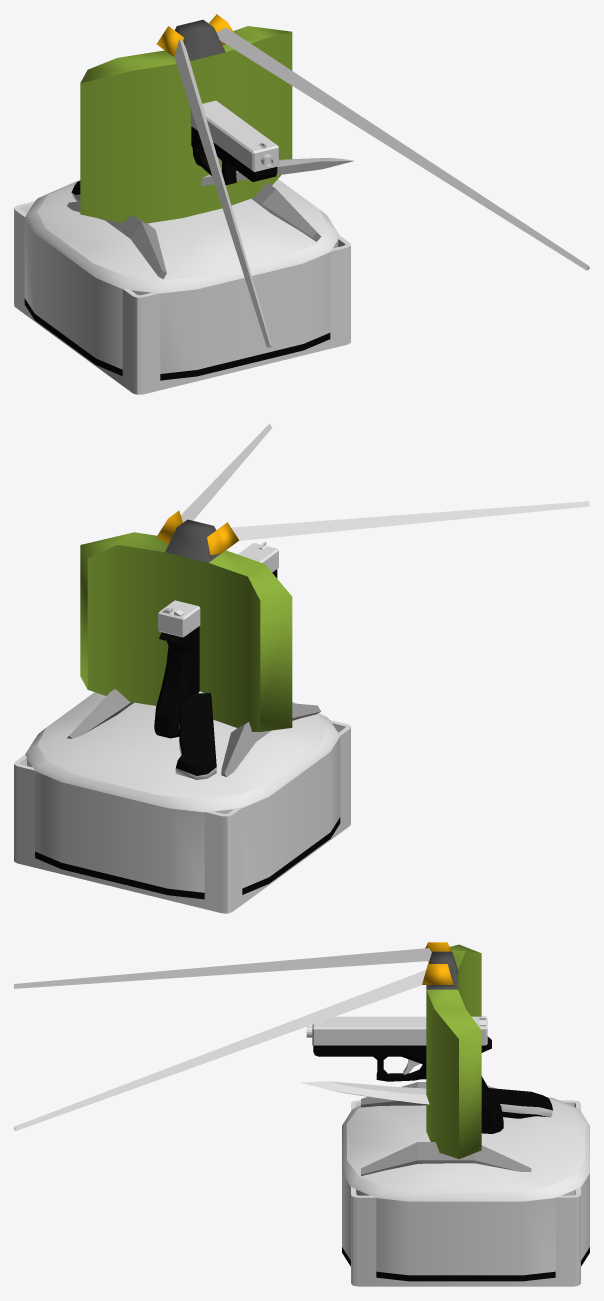
File: Roomba.fbx
The picture shows the model from 3 angles, top to bottom: view 1: azimuth 30°, elevation 25°; view 2: azimuth 150°, elevation 25°; view 3: azimuth 270°, elevation 25°; orthographic projection. The views are drawn at different scales.
Parts seen in each view (by area): view 1: Roomba Base, Claymore, Gun, Knif; view 2: Roomba Base, Claymore, Gun, Knif; view 3: Roomba Base, Claymore, Gun, Knif.
Part boxes in pixels (x1,y1,x2,y2): Roomba Base: [14, 179, 350, 394]; Claymore: [67, 14, 589, 347]; Gun: [190, 100, 278, 185]; Knif: [71, 157, 354, 201]; Roomba Base: [14, 692, 350, 913]; Claymore: [67, 423, 589, 776]; Gun: [154, 541, 278, 738]; Knif: [175, 691, 216, 779]; Roomba Base: [342, 1096, 589, 1286]; Claymore: [14, 942, 531, 1175]; Gun: [306, 1016, 503, 1133]; Knif: [300, 1081, 552, 1118].
Size of the model in its own units: 297 by 273 by 501.
